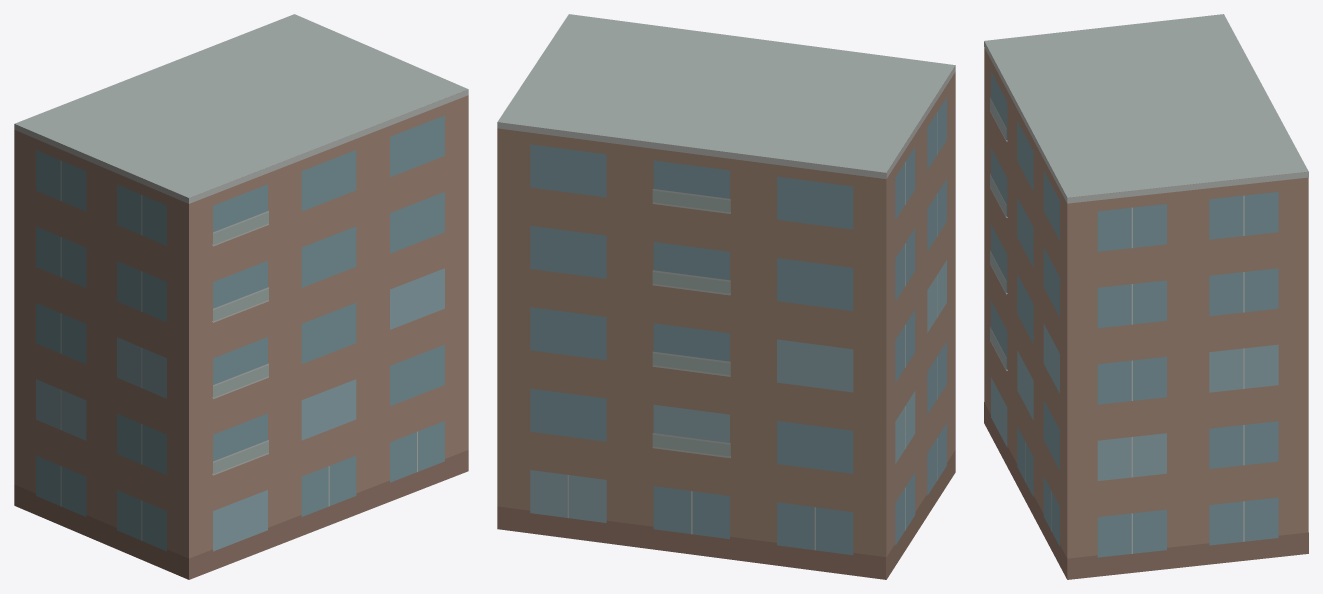
File: survey-upis-32957278.glb
3 renders of one model, left to right at view 1: azimuth 30°, elevation 25°; view 2: azimuth 150°, elevation 25°; view 3: azimuth 270°, elevation 25°, orthographic. The views are drawn at different scales.
Parts seen in each view (by area): view 1: survey-upis-32957278.tmp; view 2: survey-upis-32957278.tmp; view 3: survey-upis-32957278.tmp.
Boxes of the visible parts, x1,y1,x2,y2 form: survey-upis-32957278.tmp: (14,14,468,579); survey-upis-32957278.tmp: (497,14,955,579); survey-upis-32957278.tmp: (984,14,1308,579).
Bounding box in the file's own units: 16.3 × 15.8 × 12.18.
